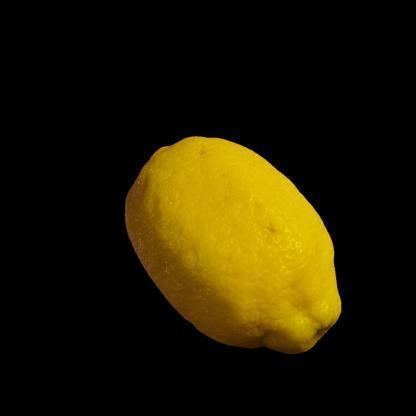lemon: (124, 135, 342, 354)
